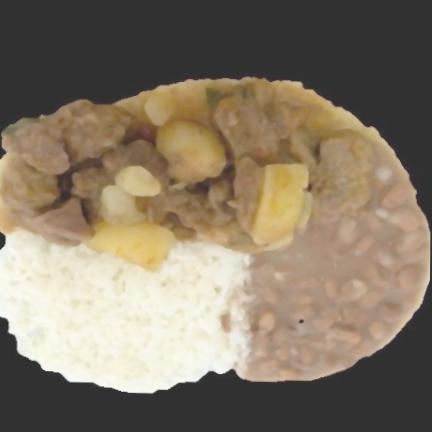beans: (243, 151, 429, 379)
meat: (0, 83, 370, 251)
potato: (85, 166, 174, 269)
rice: (0, 231, 248, 391)
